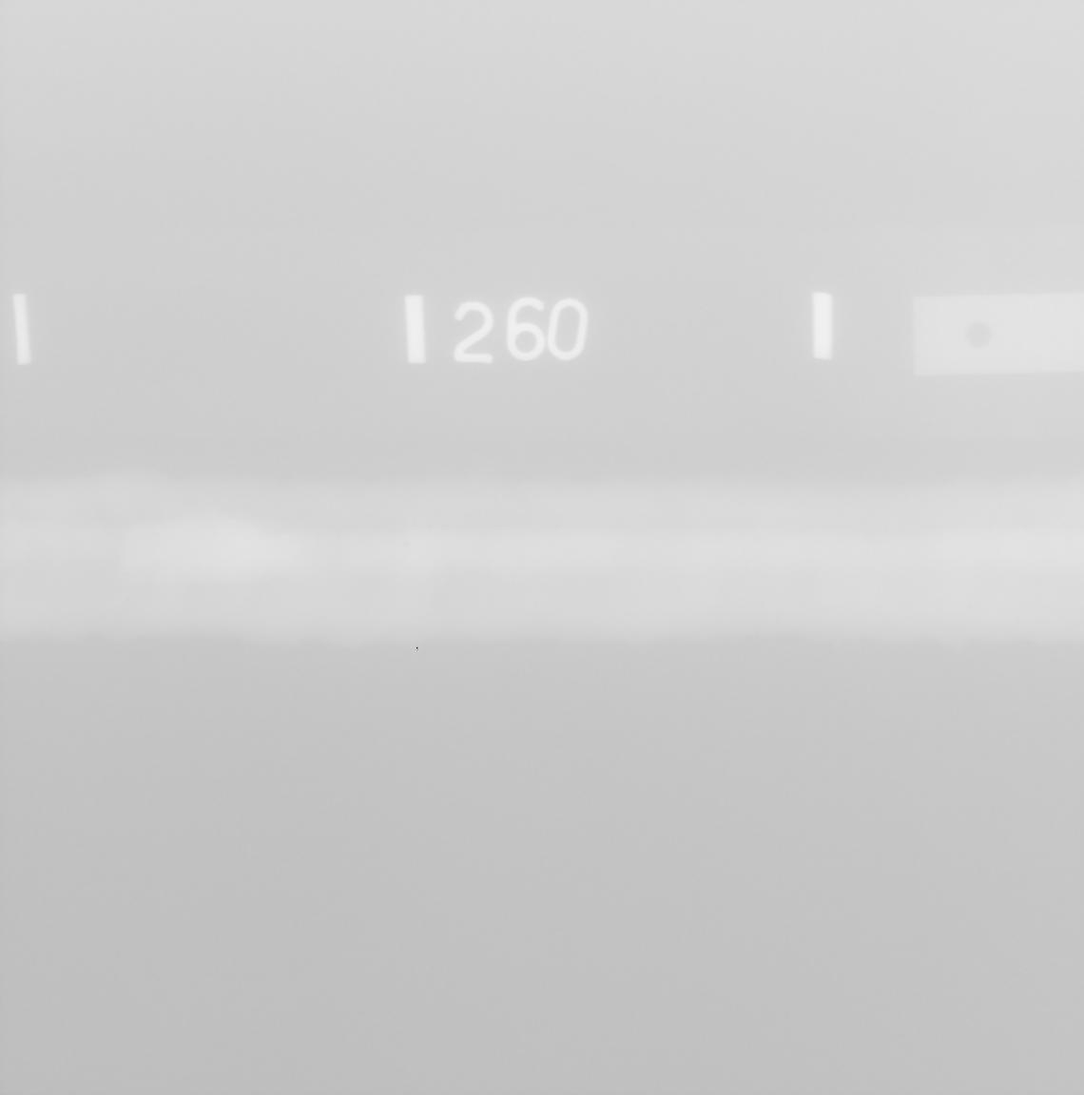Inclusion: (122, 572, 129, 577), (205, 524, 216, 526)
Pore/Porosity: (404, 542, 409, 547), (1017, 617, 1019, 621), (128, 597, 130, 600)
